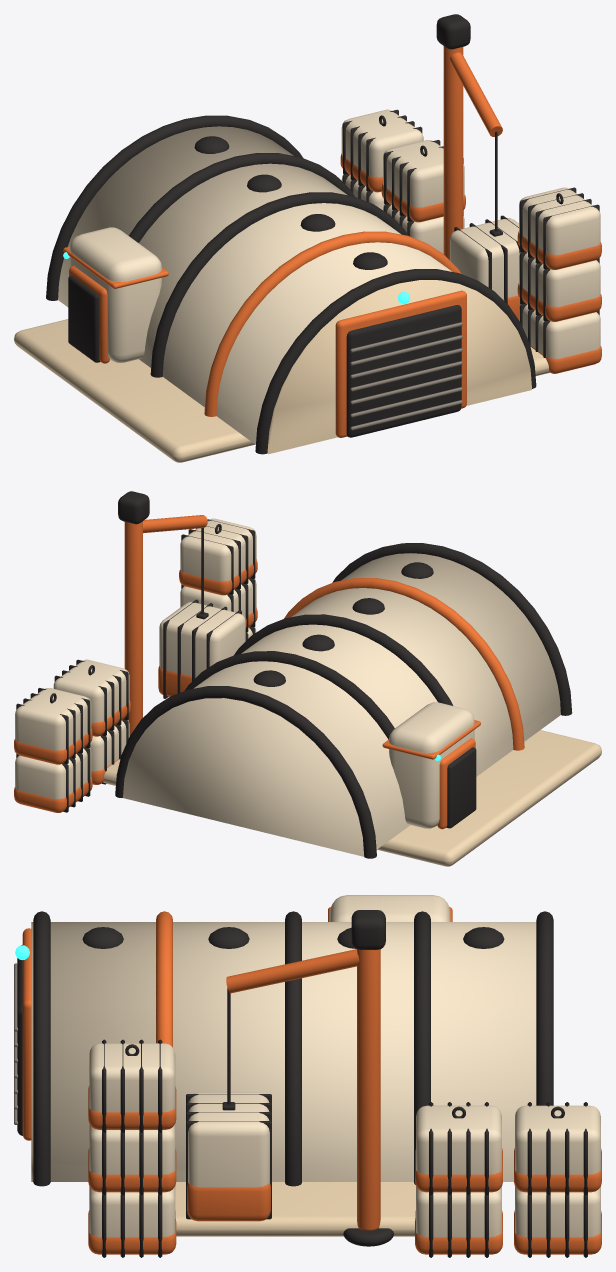
The model's file is warehouse-20.glb.
The picture shows the model from 3 angles, top to bottom: view 1: azimuth 30°, elevation 25°; view 2: azimuth 150°, elevation 25°; view 3: azimuth 270°, elevation 25°; orthographic projection. The views are drawn at different scales.
Parts seen in each view (by area): view 1: Cube.010, Cube.002, Cube, Cube.001, Cube.003; view 2: Cube.010, Cube.002, Cube.001, Cube; view 3: Cube.010, Cube.002, Cube.001, Cube, Cube.003.
Boxes of the visible parts, x1,y1,x2,y2 form: Cube.010: [58, 109, 600, 444]; Cube.002: [46, 14, 599, 454]; Cube: [14, 280, 549, 462]; Cube.001: [63, 46, 601, 437]; Cube.003: [350, 322, 462, 430]; Cube.010: [15, 518, 560, 856]; Cube.002: [16, 491, 572, 858]; Cube.001: [14, 515, 524, 829]; Cube: [103, 730, 601, 866]; Cube.010: [50, 895, 600, 1237]; Cube.002: [17, 910, 587, 1257]; Cube.001: [22, 907, 601, 1254]; Cube: [31, 922, 415, 1236]; Cube.003: [14, 963, 18, 1124].
Bounding box in the file's own units: 2.75 × 1.66 × 2.73.
